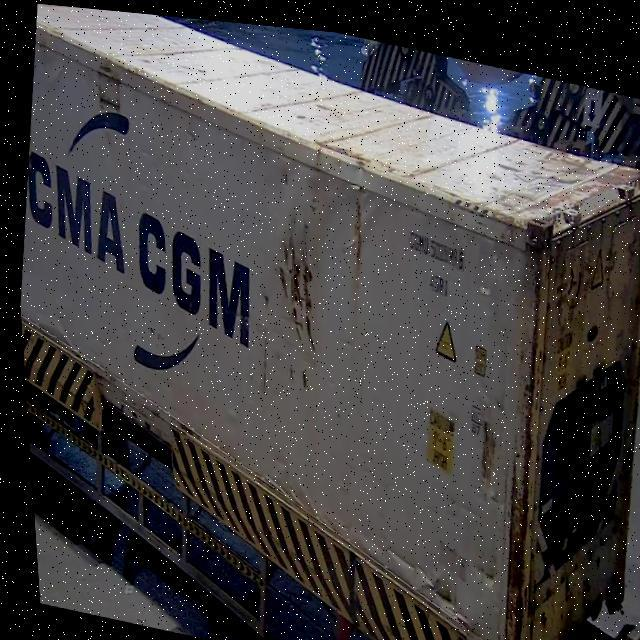rust: (453, 178, 585, 640)
